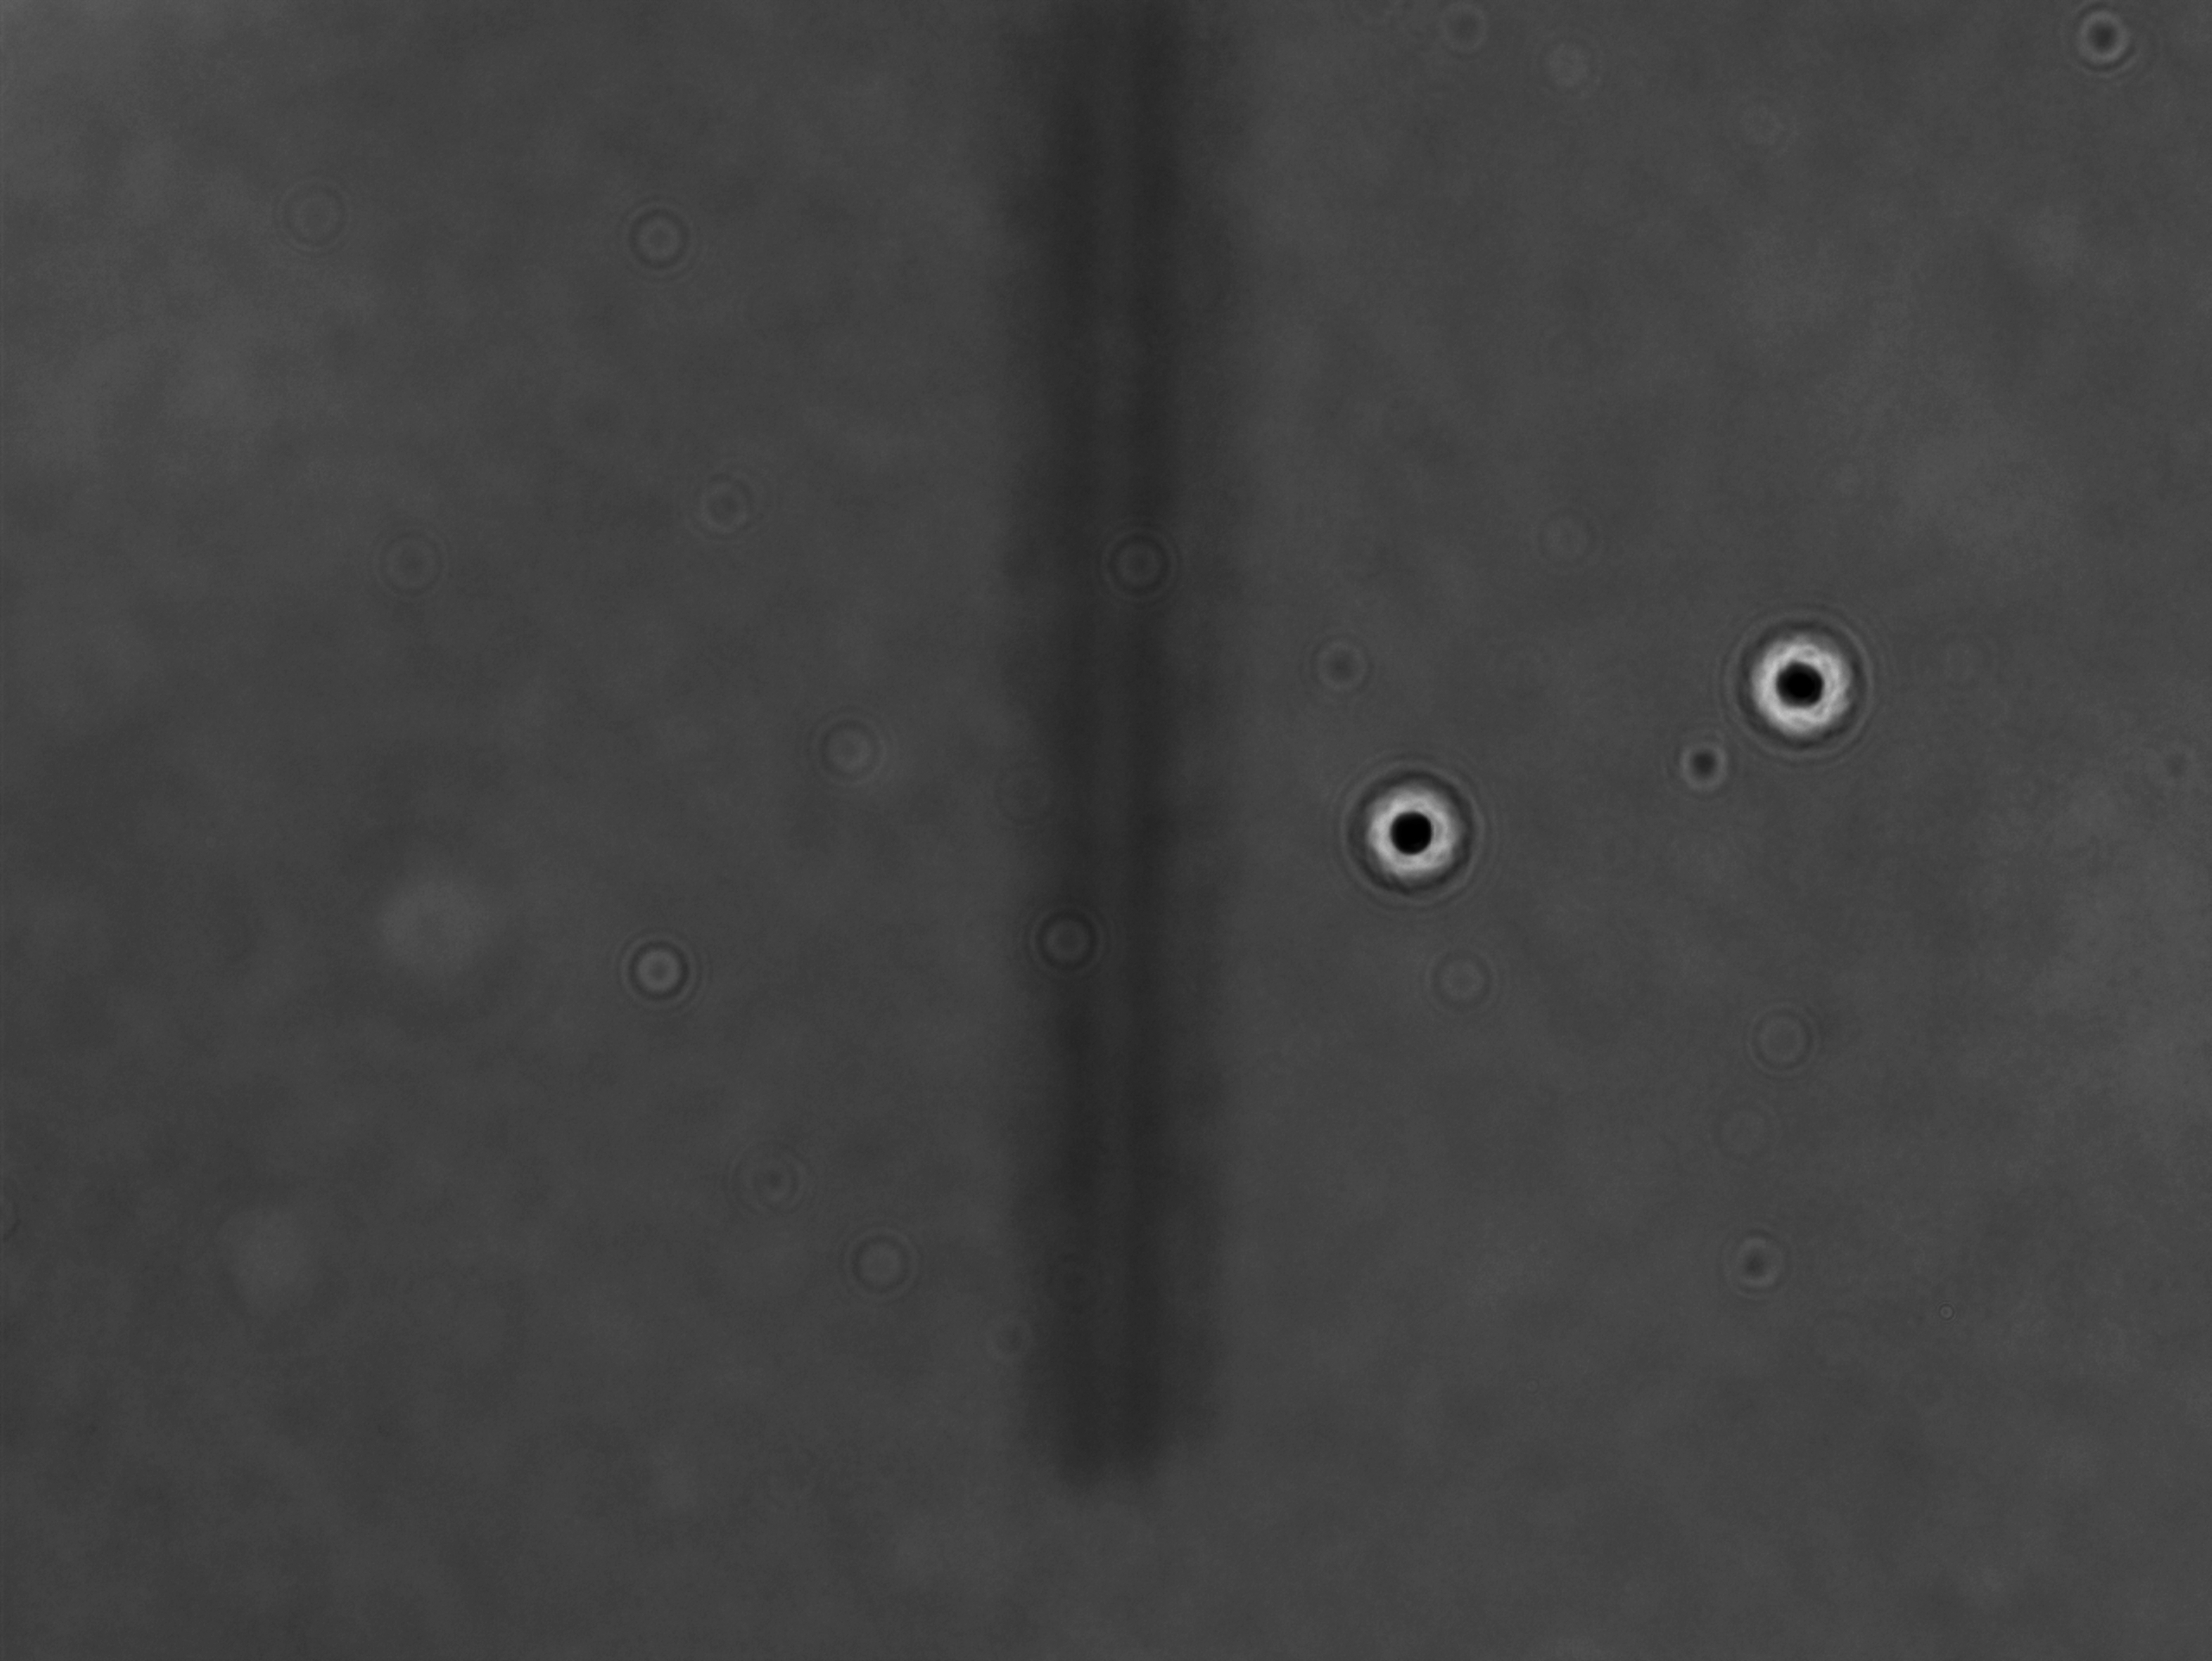depth:-20: (1724, 611, 1884, 766), (1343, 764, 1492, 902)
